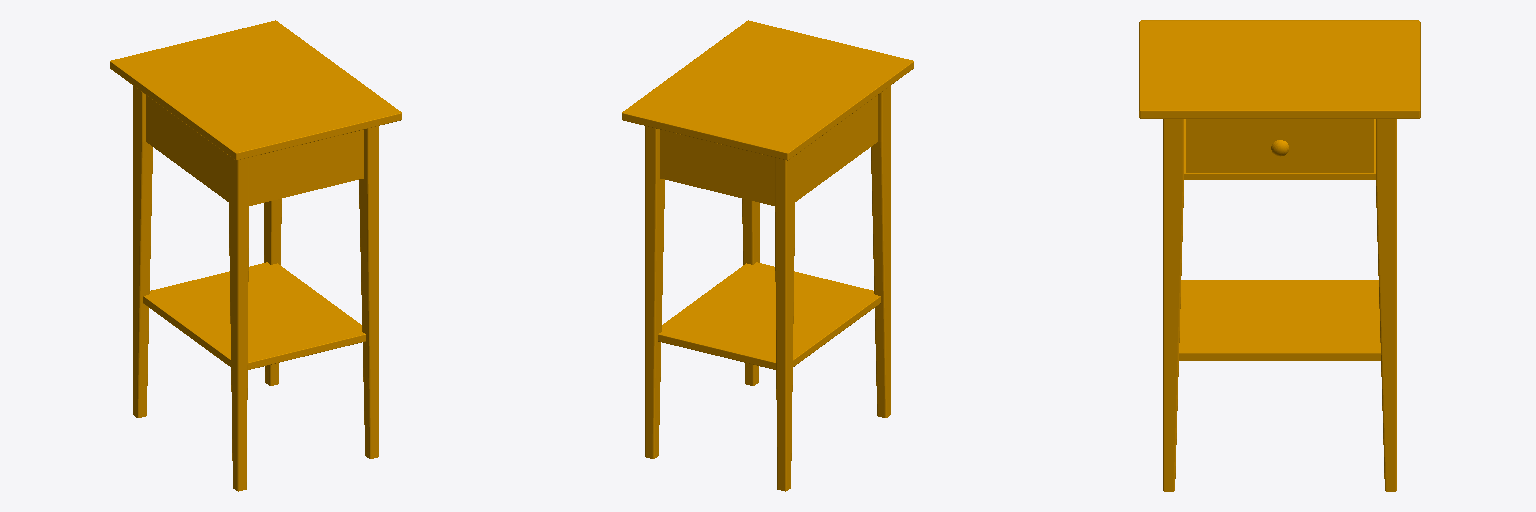
robot.urdf — Z7y0k8dG:
<?xml version='1.0' encoding='us-ascii'?>
<robot name="Z7y0k8dG">
   <link name="base_link">
      <visual>
         <origin xyz="0.0 0.0 0.0" />
         <geometry>
            <mesh filename="shape\visual\nightstand-uudzva-0.obj" />
         </geometry>
      </visual>
      <collision>
         <origin xyz="0.0 0.0 0.0" />
         <geometry>
            <mesh filename="shape\collision\nightstand-uudzva-0.obj" />
         </geometry>
      </collision>
   </link>
</robot>

--- What the picture shows (computed from the rendered views, not written in the file) ---
The picture shows the robot from 3 angles, left to right: view 1: azimuth 30°, elevation 25°; view 2: azimuth 150°, elevation 25°; view 3: azimuth 270°, elevation 25°; orthographic projection.
Robot: Z7y0k8dG — 1 links, 0 joints (none); root link base_link; default pose: all joints at 0.
Links seen in each view (by area): view 1: base_link; view 2: base_link; view 3: base_link.
Link boxes in pixels (bbox=[...]): base_link: bbox=[110, 20, 401, 491]; base_link: bbox=[622, 20, 913, 491]; base_link: bbox=[1139, 20, 1420, 491].
Size in the robot's own frame: 0.35 by 0.46 by 0.7 metres.
1 mesh visuals loaded from 1 distinct referenced files (1 OBJ).